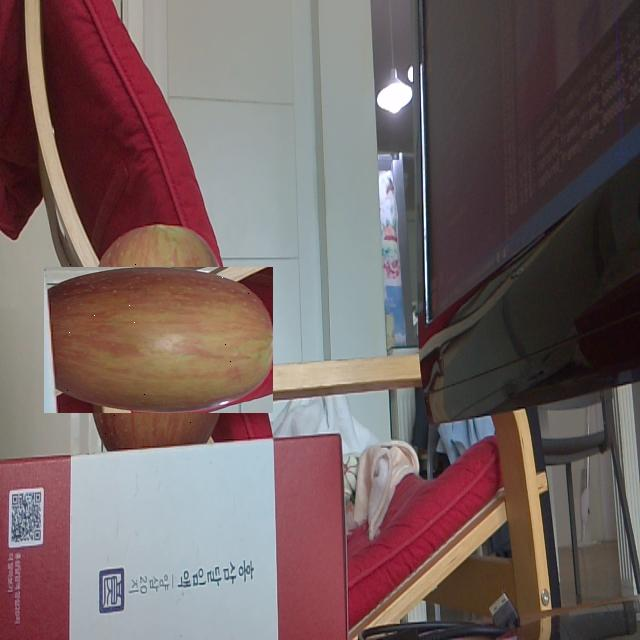apple: (64, 246, 252, 434)
